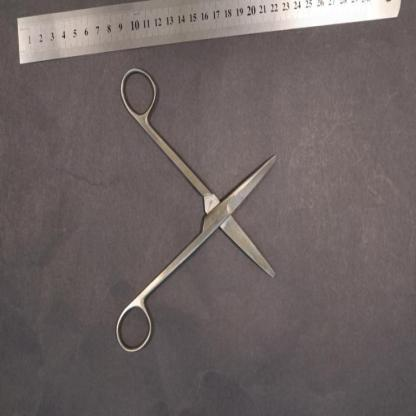Curved Mayo Scissors: (115, 65, 276, 354)
